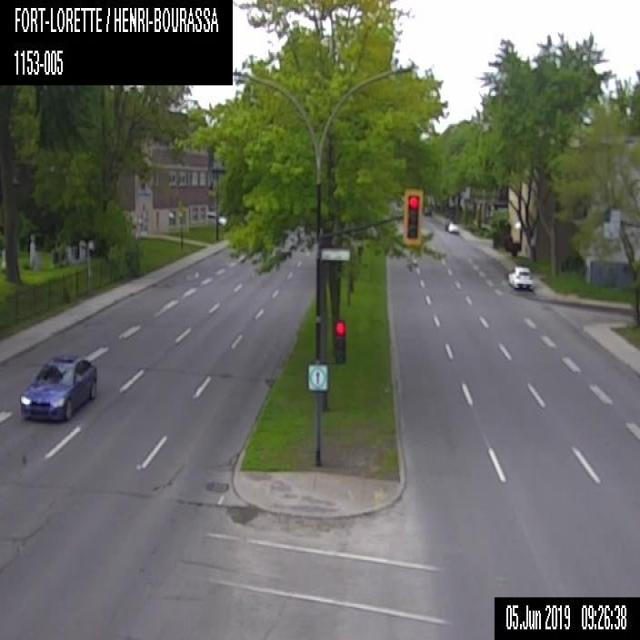vehicle: (17, 351, 96, 421), (504, 262, 531, 290), (443, 220, 458, 233), (422, 201, 432, 215)
